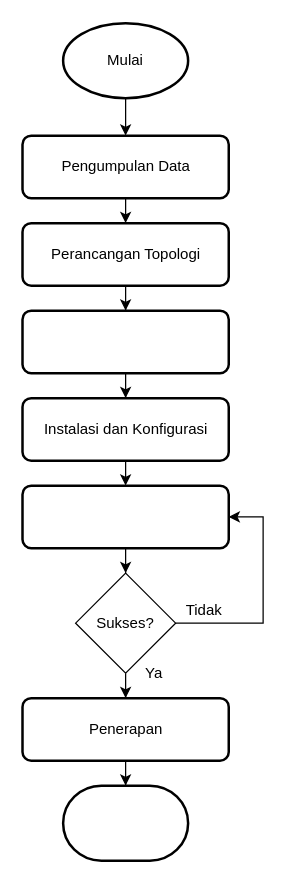
Some shapes in this 295 by 883 pixel diagram are drawn without their labels. Here are the shapes that lost their labels. From the top down, the centre of each, then its label:
[125,341]: Implementasi
[125,516]: Pengujian
[125,822]: Selesai
